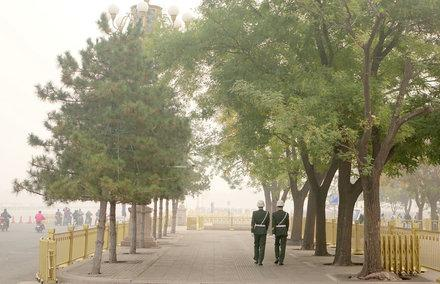bicycle: (94, 216, 102, 227)
motorbike: (35, 218, 46, 233), (1, 215, 11, 231), (71, 216, 80, 231), (54, 215, 63, 226), (84, 218, 93, 228), (77, 213, 83, 227)
person: (250, 200, 271, 266), (271, 200, 290, 264), (1, 208, 12, 228), (35, 210, 46, 228), (71, 209, 80, 226), (413, 212, 421, 230), (94, 209, 102, 227), (84, 210, 93, 225), (55, 208, 63, 223), (77, 209, 84, 225)
